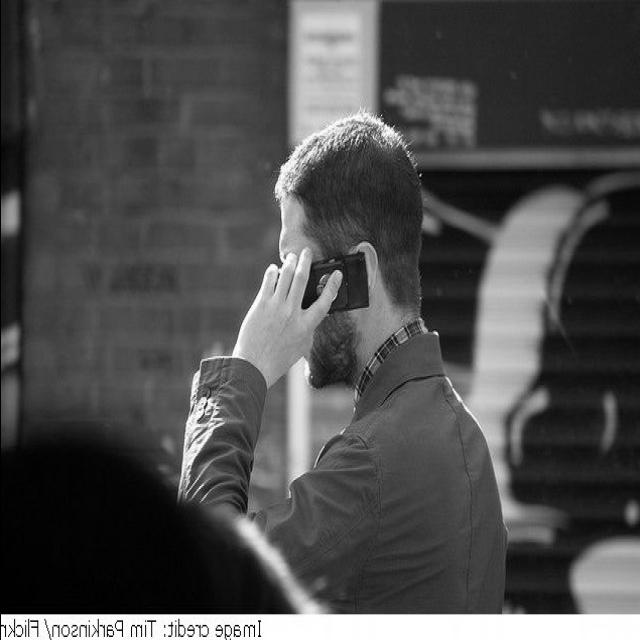phone: (223, 202, 381, 415)
